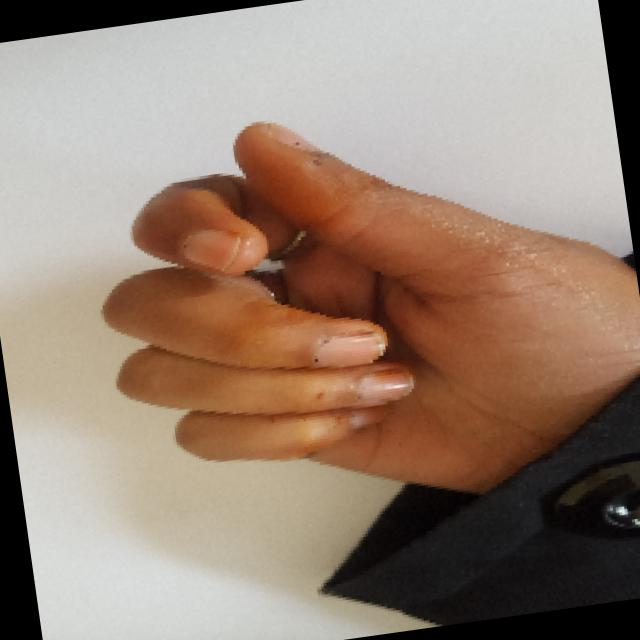Nail: (313, 330, 385, 367), (179, 228, 240, 271), (357, 369, 413, 400), (265, 122, 319, 150), (349, 406, 386, 424)
